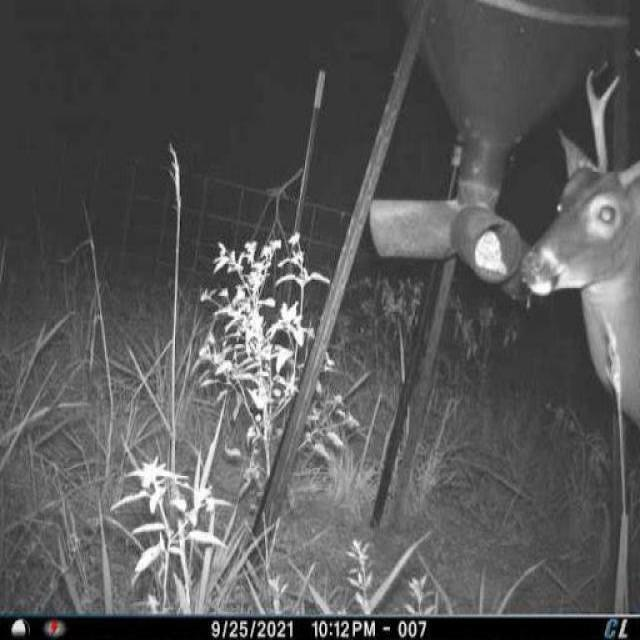deer: (524, 53, 640, 442)
